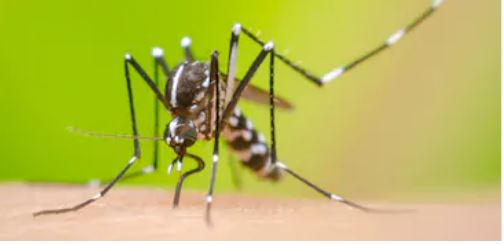dengue_mosquito: (97, 23, 375, 212)
